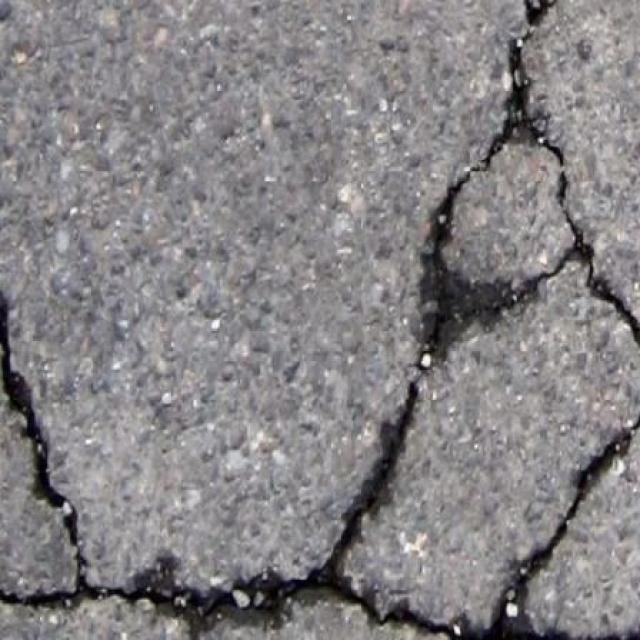Crack: (0, 378, 640, 640), (412, 0, 640, 376), (1, 294, 79, 547)
